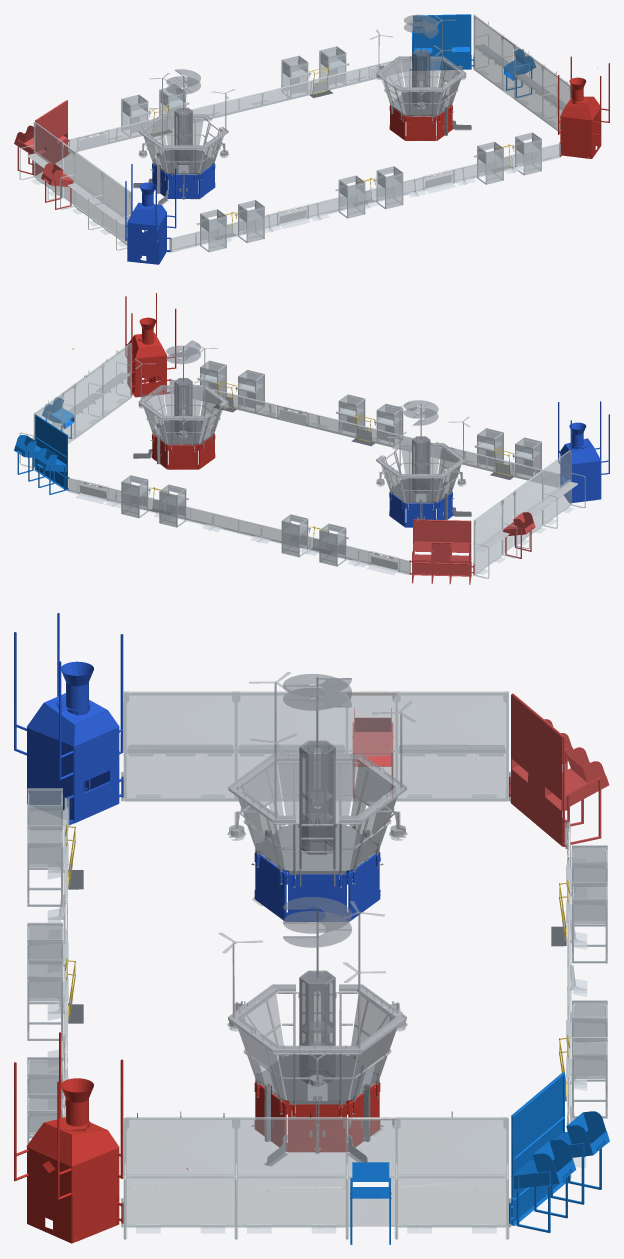
The model's file is field-2017-DUJCvcJF.glb.
The picture shows the model from 3 angles, top to bottom: view 1: azimuth 30°, elevation 25°; view 2: azimuth 150°, elevation 25°; view 3: azimuth 270°, elevation 25°; orthographic projection. The views are drawn at different scales.
Parts seen in each view (by area): view 1: GE-17258_10, FE-00009_2, GE-17092_3, FE-00012_2 (×2), FE-00003-01_1 (×2), PART_42_1, GE-17379_AND_GE_18380_1, GE-17236_19, PART_1_1, GE-17034_6, GE-17230_44, FE-00004-06_1 (+1 smaller); view 2: GE-17258_10, FE-00009_2, GE-17092_3, FE-00012_2 (×2), FE-00003-01_1 (×2), PART_42_1, GE-17379_AND_GE_18380_1, GE-17230_44, PART_1_1, GE-17236_19, GE-17034_6, FE-00004-06_1 (+1 smaller); view 3: FE-00012_2 (×2), FE-00003-01_1 (×2), GE-17092_3, GE-17379_AND_GE_18380_1, PART_42_1, GE-17258_10, PART_1_1, GE-17034_6, GE-17230_44, GE-17236_19, FE-00004-06_1, FE-00009_2 (+2 smaller).
Boxes of the visible parts, left/top/right/bottom form: GE-17258_10: left=121, top=46, right=541, bottom=252; FE-00009_2: left=68, top=61, right=560, bottom=252; GE-17092_3: left=138, top=15, right=466, bottom=173; FE-00012_2 (×2): left=35, top=16, right=570, bottom=218; FE-00003-01_1 (×2): left=19, top=14, right=570, bottom=250; PART_42_1: left=389, top=56, right=609, bottom=158; GE-17379_AND_GE_18380_1: left=125, top=163, right=215, bottom=264; GE-17236_19: left=410, top=14, right=535, bottom=97; PART_1_1: left=166, top=14, right=438, bottom=164; GE-17034_6: left=133, top=91, right=471, bottom=204; GE-17230_44: left=14, top=100, right=73, bottom=209; FE-00004-06_1: left=27, top=44, right=566, bottom=224; GE-17258_10: left=121, top=360, right=541, bottom=566; FE-00009_2: left=68, top=379, right=559, bottom=575; GE-17092_3: left=134, top=344, right=469, bottom=501; FE-00012_2 (×2): left=36, top=344, right=569, bottom=553; FE-00003-01_1 (×2): left=19, top=343, right=585, bottom=578; PART_42_1: left=72, top=293, right=215, bottom=469; GE-17379_AND_GE_18380_1: left=389, top=401, right=609, bottom=527; GE-17230_44: left=409, top=512, right=535, bottom=584; PART_1_1: left=166, top=340, right=438, bottom=493; GE-17236_19: left=14, top=397, right=74, bottom=494; GE-17034_6: left=133, top=420, right=471, bottom=520; FE-00004-06_1: left=31, top=372, right=577, bottom=552; FE-00012_2 (×2): left=125, top=693, right=507, bottom=1226; FE-00003-01_1 (×2): left=119, top=691, right=513, bottom=1239; GE-17092_3: left=219, top=672, right=416, bottom=1101; GE-17379_AND_GE_18380_1: left=14, top=613, right=380, bottom=921; PART_42_1: left=14, top=1032, right=380, bottom=1243; GE-17258_10: left=27, top=788, right=607, bottom=1144; PART_1_1: left=283, top=674, right=351, bottom=1083; GE-17034_6: left=251, top=823, right=383, bottom=1166; GE-17230_44: left=352, top=693, right=609, bottom=848; GE-17236_19: left=350, top=1072, right=609, bottom=1244; FE-00004-06_1: left=127, top=744, right=505, bottom=1188; FE-00009_2: left=47, top=797, right=587, bottom=1178.
Bounding box in the file's own units: 19.09 × 4.03 × 9.82.
